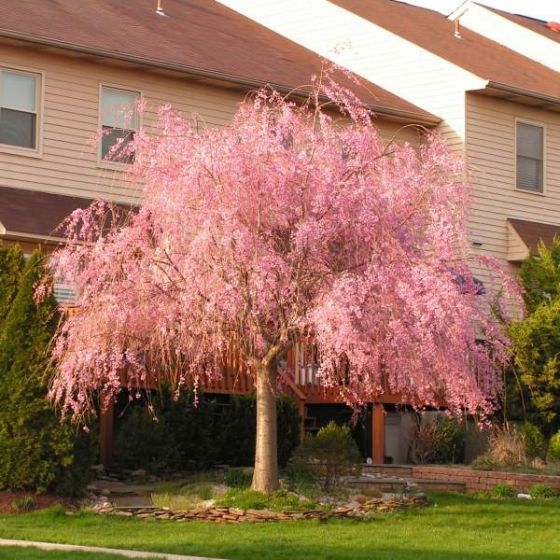tree: (52, 98, 497, 506)
